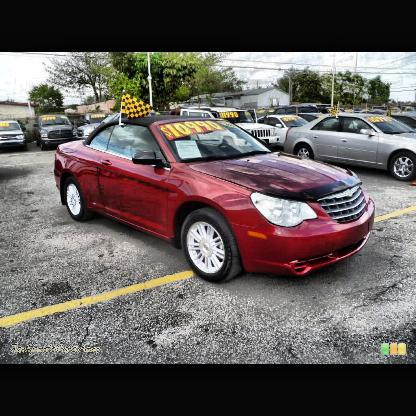Chrysler Sebring Convertible 2010: (53, 89, 378, 286)
